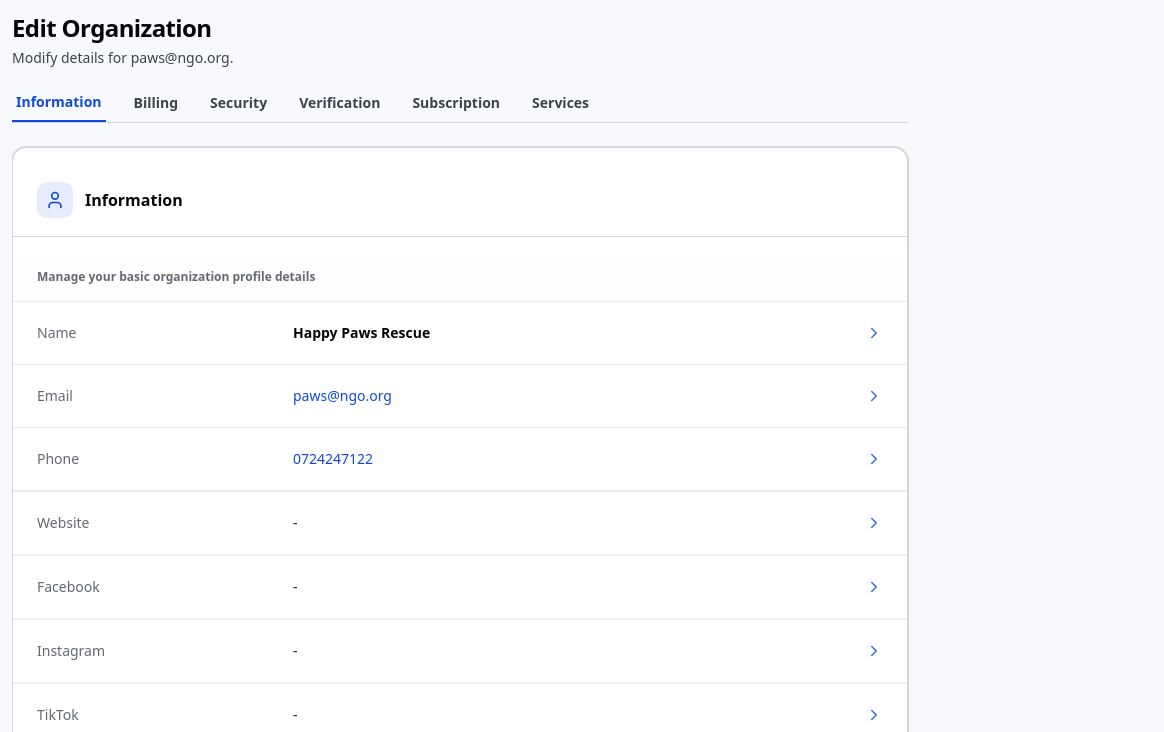
Test: EditOrganizationForm Component › should render services tab empty state when servicesList is empty
The width and height of the screenshot is (1164, 732).
Click the button "Services". click: (560, 107)
box: [528,92,593,122]
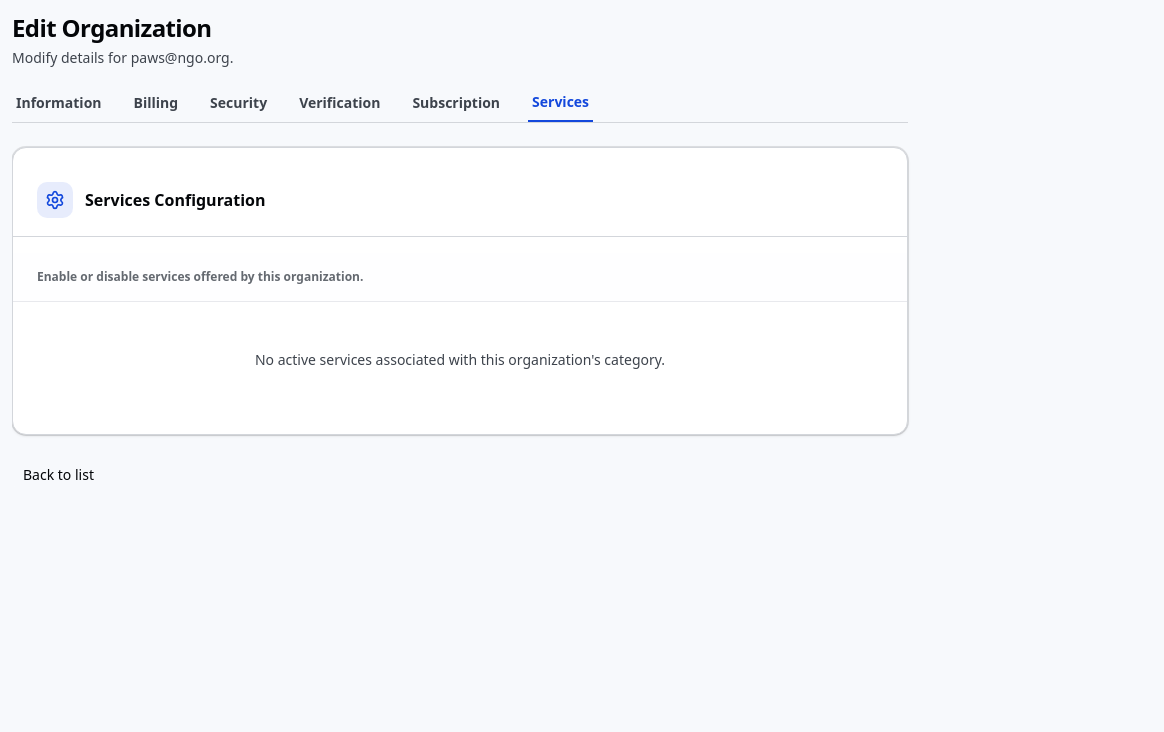
Expected: the text "No active services associated with this organization's category." is shown, [255,350,665,369]
